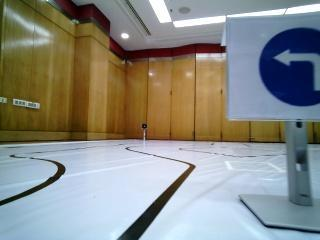left: (226, 20, 320, 121)
